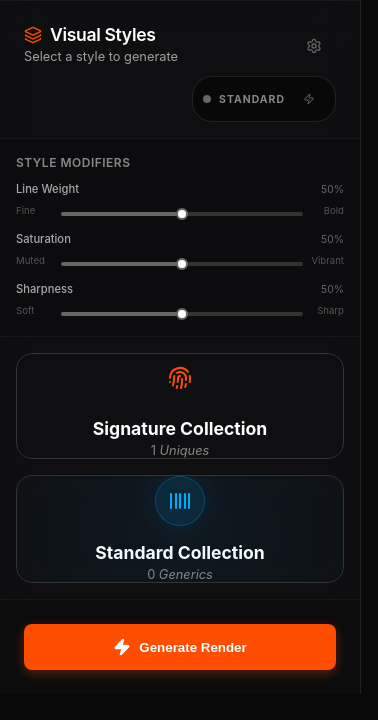
Test: Controls Component › Custom Styles › uses currentStyles when provided
// Open Signature accordion
Click the heading "Signature Collection" at point(180, 428), box [93, 418, 267, 439]
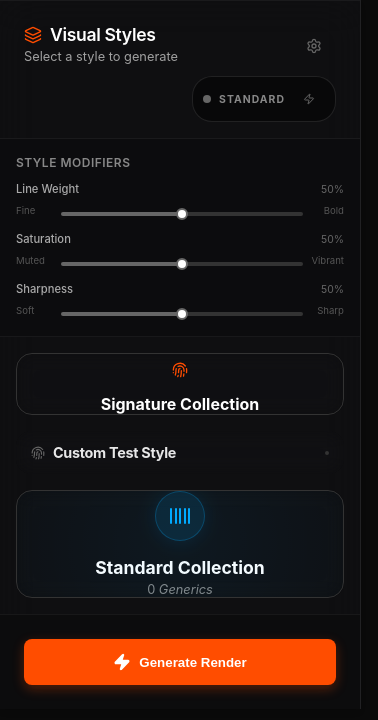
Expected: the heading "Custom Test Style" is shown, [53, 444, 176, 461]
